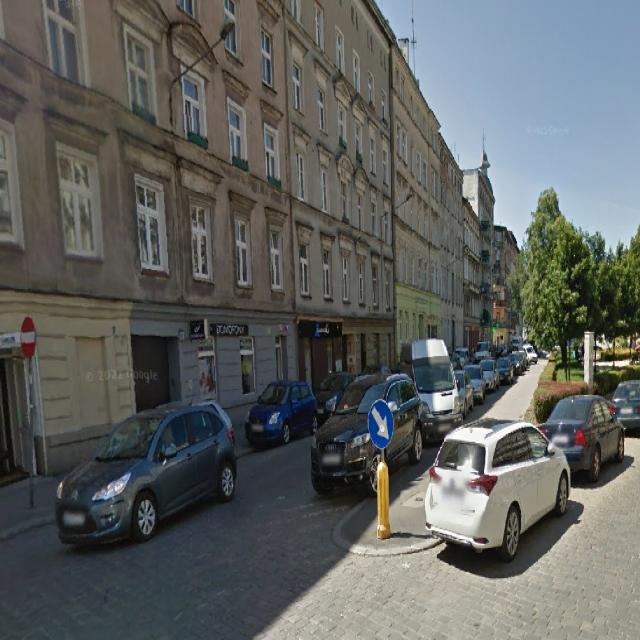Zakaz wjazdu: (19, 314, 37, 362)
